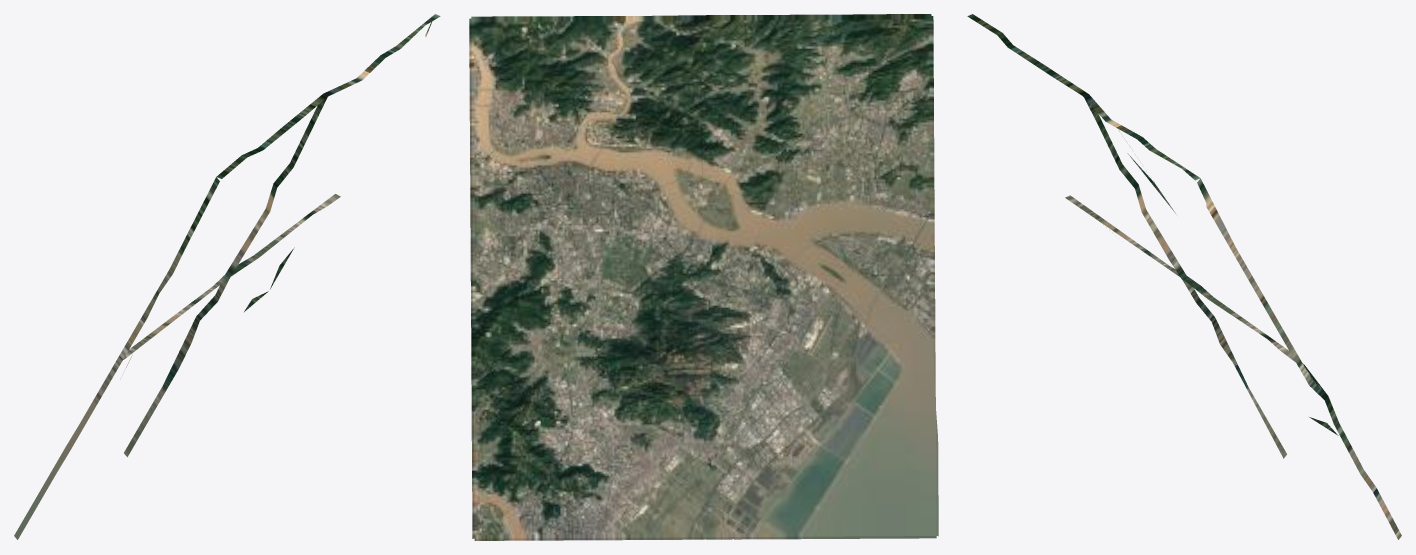
The picture shows the model from 3 angles, left to right: view 1: azimuth 30°, elevation 25°; view 2: azimuth 150°, elevation 25°; view 3: azimuth 270°, elevation 25°; orthographic projection. The views are drawn at different scales.
Size of the model in its own units: 39514 by 35293 by 33590.
1 material, 1 textured.
